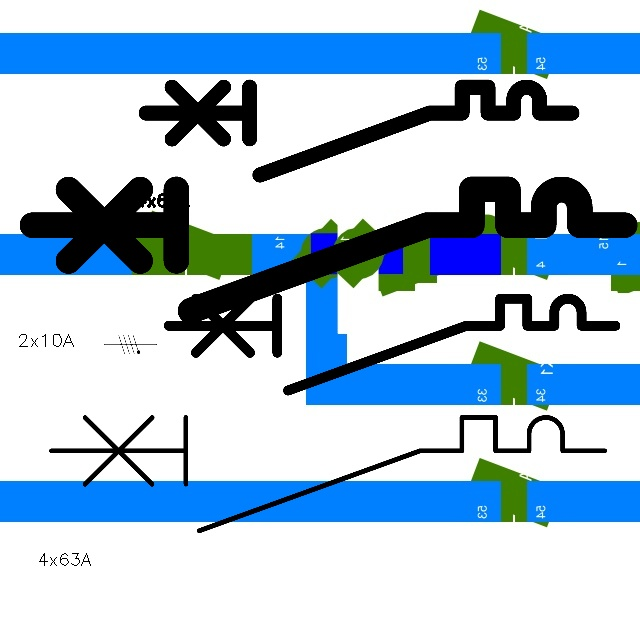interruptor_termomagnetico: (17, 174, 640, 326), (37, 403, 619, 545), (157, 287, 627, 402), (135, 76, 583, 185)
